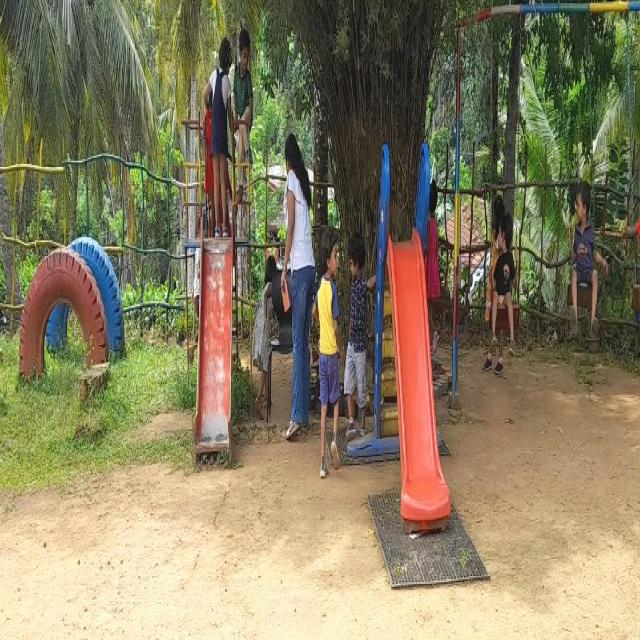adult: (278, 113, 311, 438)
child: (313, 213, 343, 469), (565, 170, 604, 326), (485, 193, 524, 347), (341, 226, 370, 430), (205, 18, 232, 235), (229, 0, 258, 180), (628, 170, 640, 393)
